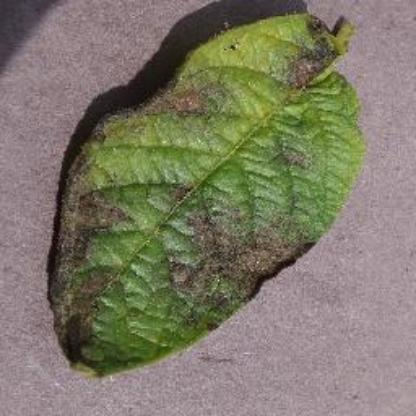Late-Blight: (52, 13, 385, 362)
